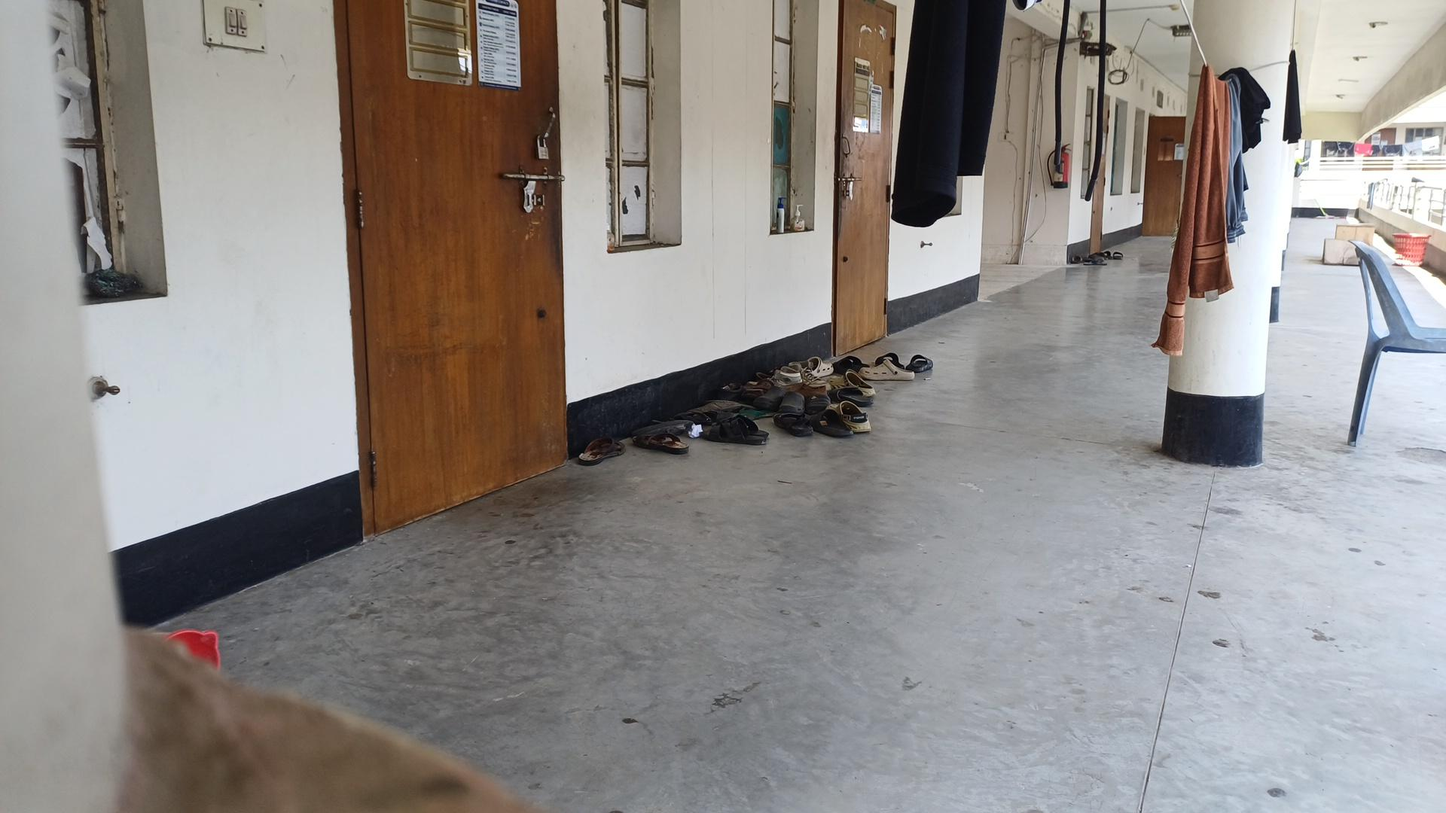Basket: (1391, 223, 1438, 270)
Chair: (1337, 239, 1446, 466)
Door: (301, 10, 608, 498), (823, 5, 923, 349)
Footwear: (800, 394, 891, 449), (684, 404, 770, 457)
Towel: (1163, 50, 1256, 388)
